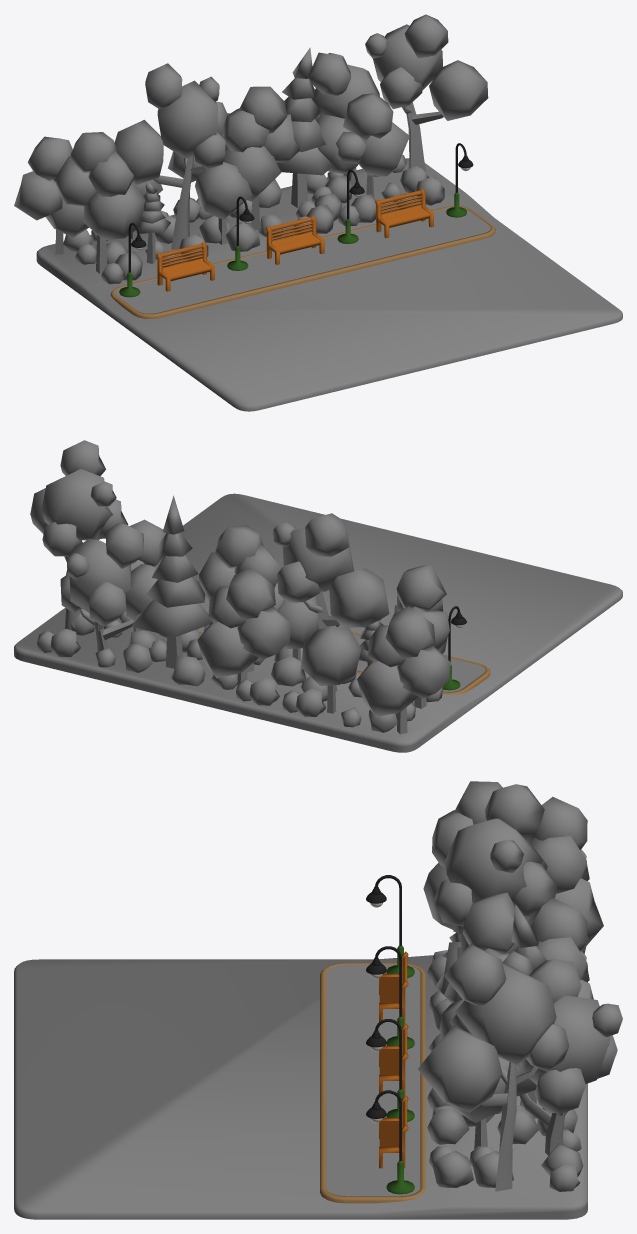
Rendered from winter_park_01.FBX.
3 renders of one model, top to bottom at view 1: azimuth 30°, elevation 25°; view 2: azimuth 150°, elevation 25°; view 3: azimuth 270°, elevation 25°, orthographic. The views are drawn at different scales.
Visible parts, largest first — view 1: ground_01, trees_02, bench_ground_lamp_01, bushes_01, trees_01; view 2: trees_02, ground_01, bushes_01, trees_01, bench_ground_lamp_01; view 3: ground_01, trees_02, bench_ground_lamp_01, bushes_01, trees_01.
Boxes of the visible parts, x1,y1,x2,y2 form: ground_01: (36,158,622,411); trees_02: (14,14,488,240); bench_ground_lamp_01: (110,143,495,318); bushes_01: (63,154,444,284); trees_01: (55,102,443,273); trees_02: (30,440,450,716); ground_01: (14,493,622,752); bushes_01: (37,609,442,732); trees_01: (64,539,426,734); bench_ground_lamp_01: (197,596,490,694); ground_01: (14,955,587,1219); trees_02: (418,781,622,1122); bench_ground_lamp_01: (320,875,425,1203); bushes_01: (427,950,583,1191); trees_01: (474,1062,568,1191).
Bounding box in the file's own units: 78.6 × 32.37 × 71.05.
